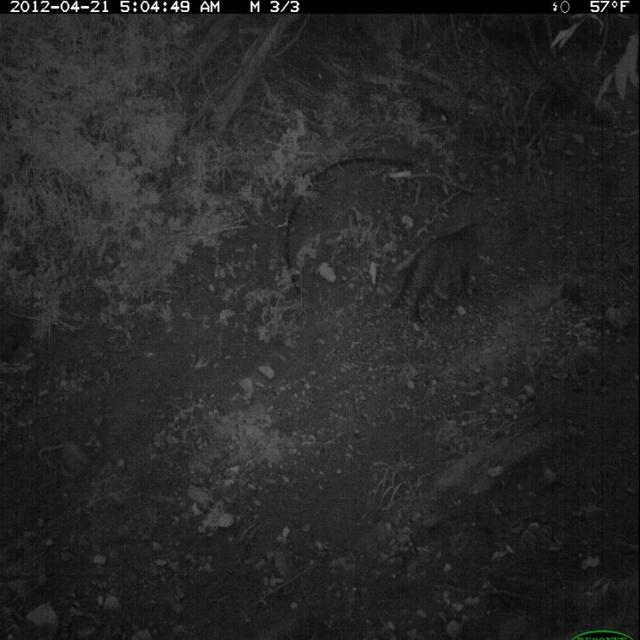cat: (391, 207, 494, 334)
